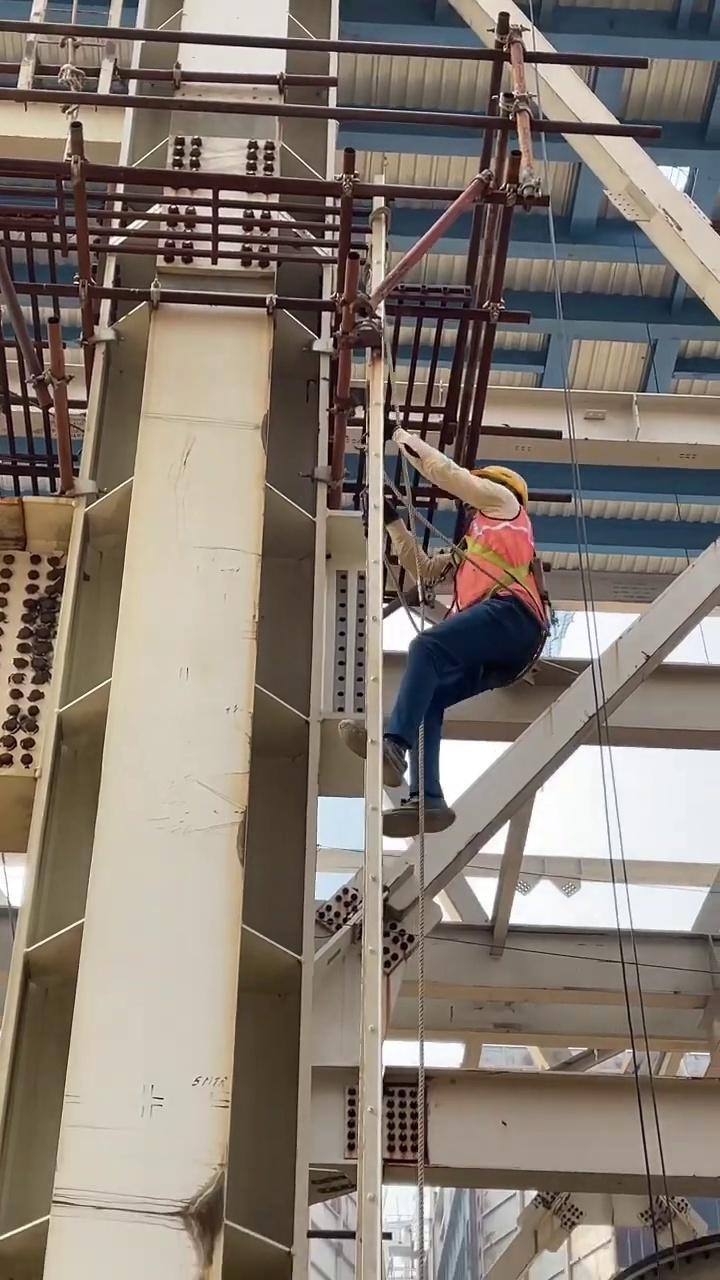Helmet: (477, 464, 528, 499)
Person: (337, 465, 550, 838)
Safety_Harness: (446, 503, 551, 634)
Safety_shoes: (338, 719, 406, 788), (382, 798, 456, 839)
